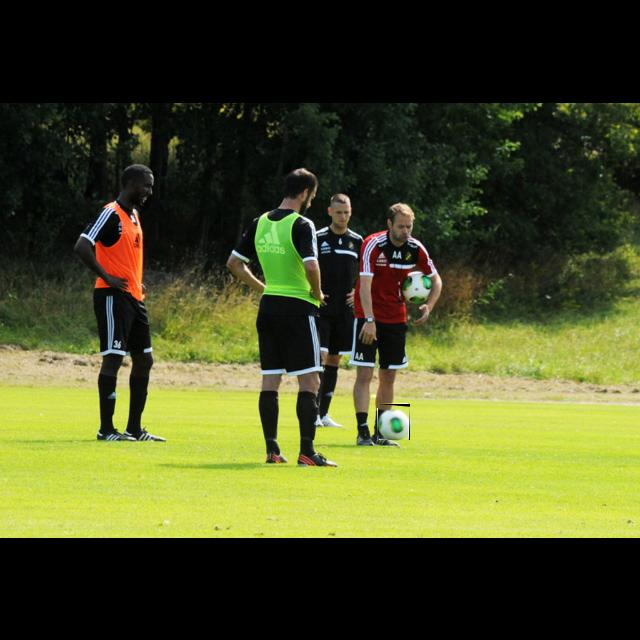Football: (378, 404, 410, 440)
